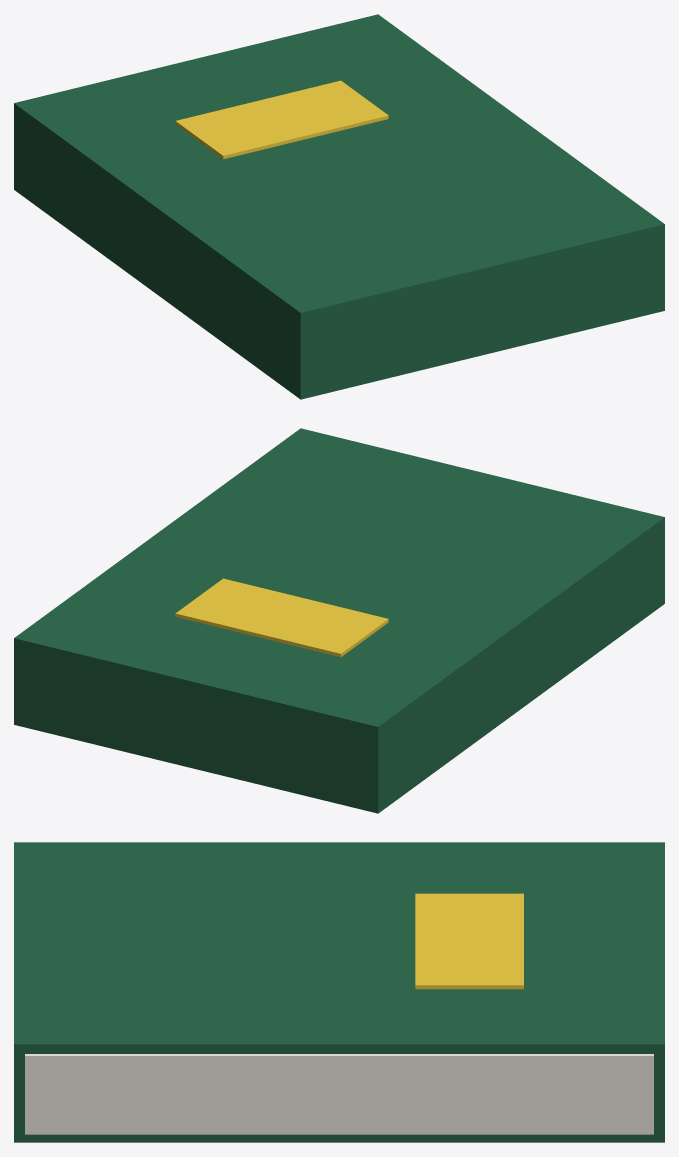
The model's file is payroll_book.glb.
The picture shows the model from 3 angles, top to bottom: view 1: azimuth 30°, elevation 25°; view 2: azimuth 150°, elevation 25°; view 3: azimuth 270°, elevation 25°; orthographic projection. The views are drawn at different scales.
Parts seen in each view (by area): view 1: cover_ledger_green, label_ledger_label; view 2: cover_ledger_green, label_ledger_label; view 3: cover_ledger_green, pages_paper, label_ledger_label.
Part boxes in pixels (x1,y1,x2,y2): cover_ledger_green: (14,14,664,399); label_ledger_label: (175,80,388,159); cover_ledger_green: (14,428,664,813); label_ledger_label: (175,578,388,657); cover_ledger_green: (14,842,664,1142); pages_paper: (25,1054,653,1134); label_ledger_label: (415,893,523,989).
Bounding box in the file's own units: 0.222 × 0.052 × 0.3.
